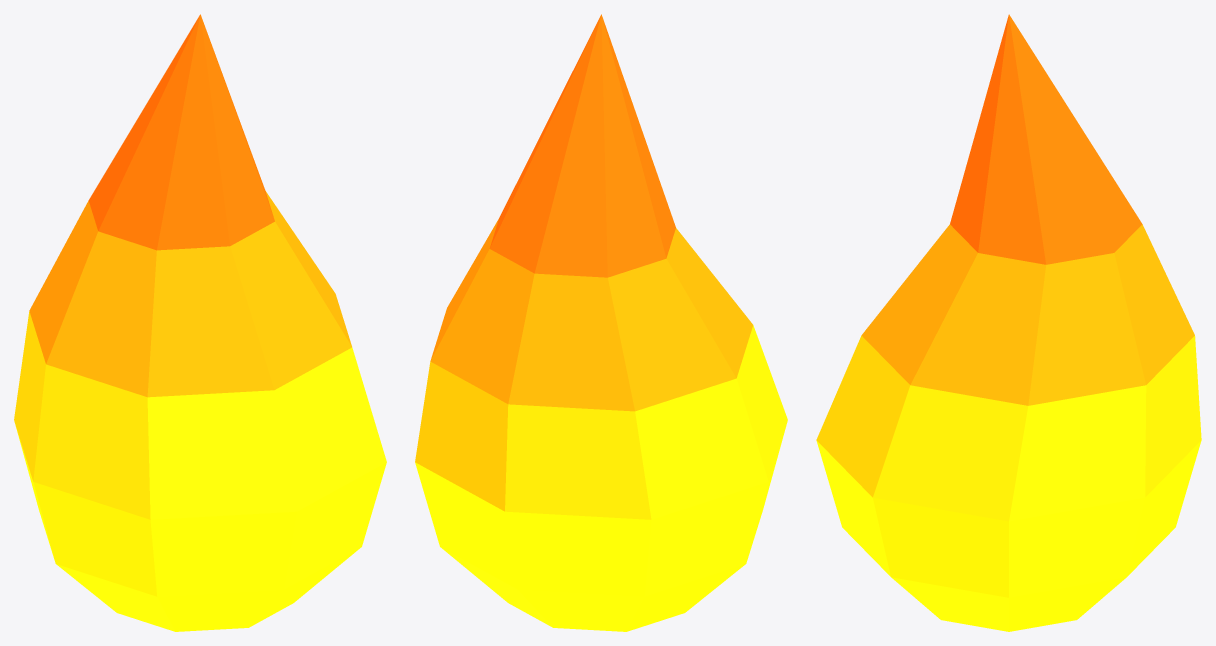
The model's file is flame1.fbx.
3 renders of one model, left to right at view 1: azimuth 30°, elevation 25°; view 2: azimuth 150°, elevation 25°; view 3: azimuth 270°, elevation 25°, orthographic.
Visible parts, largest first — view 1: Sphere; view 2: Sphere; view 3: Sphere.
Part boxes in pixels (<box>): Sphere: <box>14,14,386,631</box>; Sphere: <box>415,14,787,631</box>; Sphere: <box>816,14,1201,631</box>.
Bounding box in the file's own units: 200 × 344 × 200.
